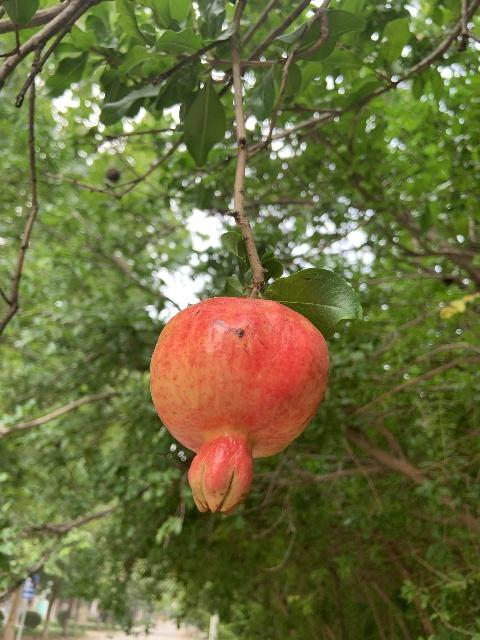ripe: (149, 297, 330, 516)
